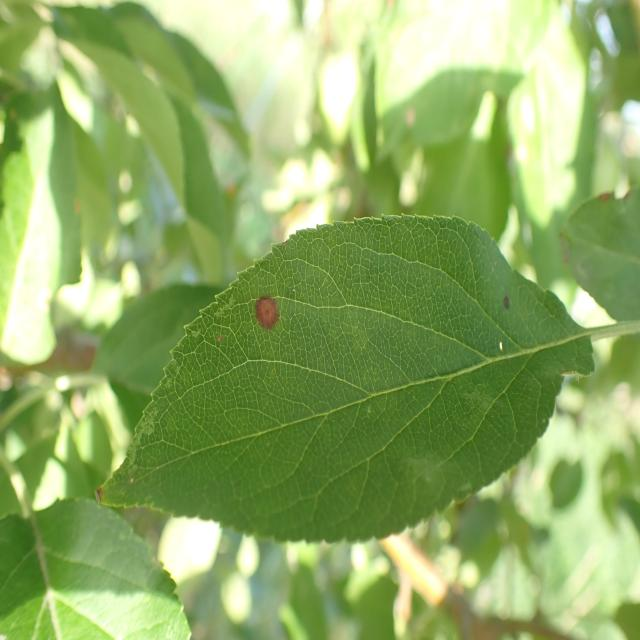Black Rot: (249, 268, 292, 340)
